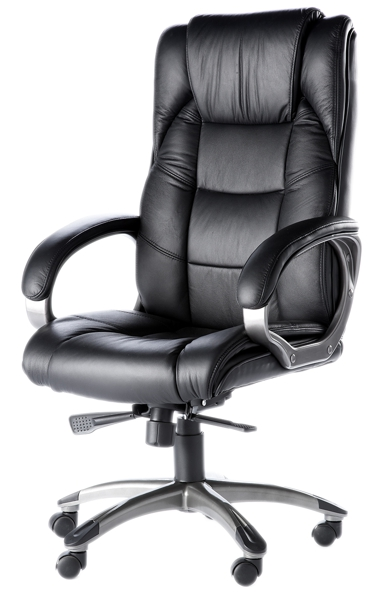chairs: (21, 8, 362, 576)
